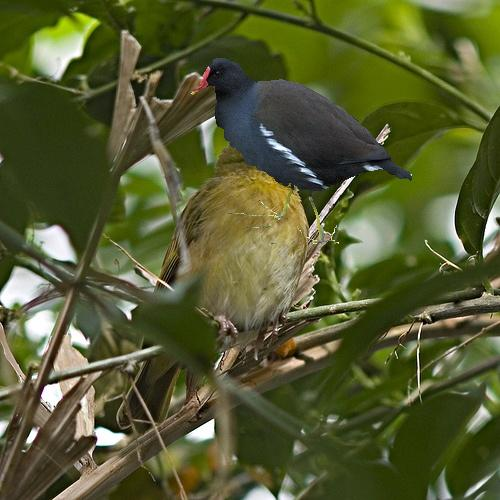tampered: (192, 59, 412, 244)
